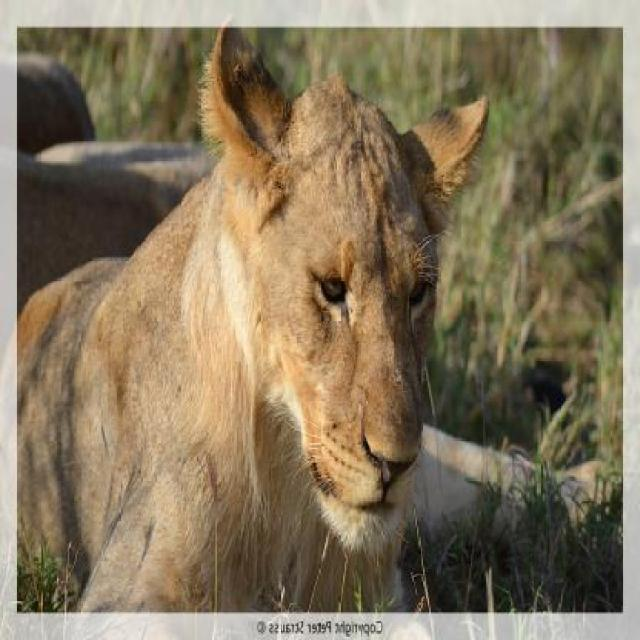Lion: (18, 48, 520, 588)
